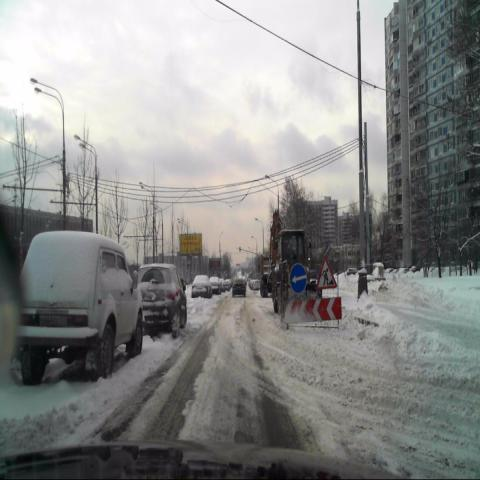4_1_2_2: (290, 263, 306, 292)
